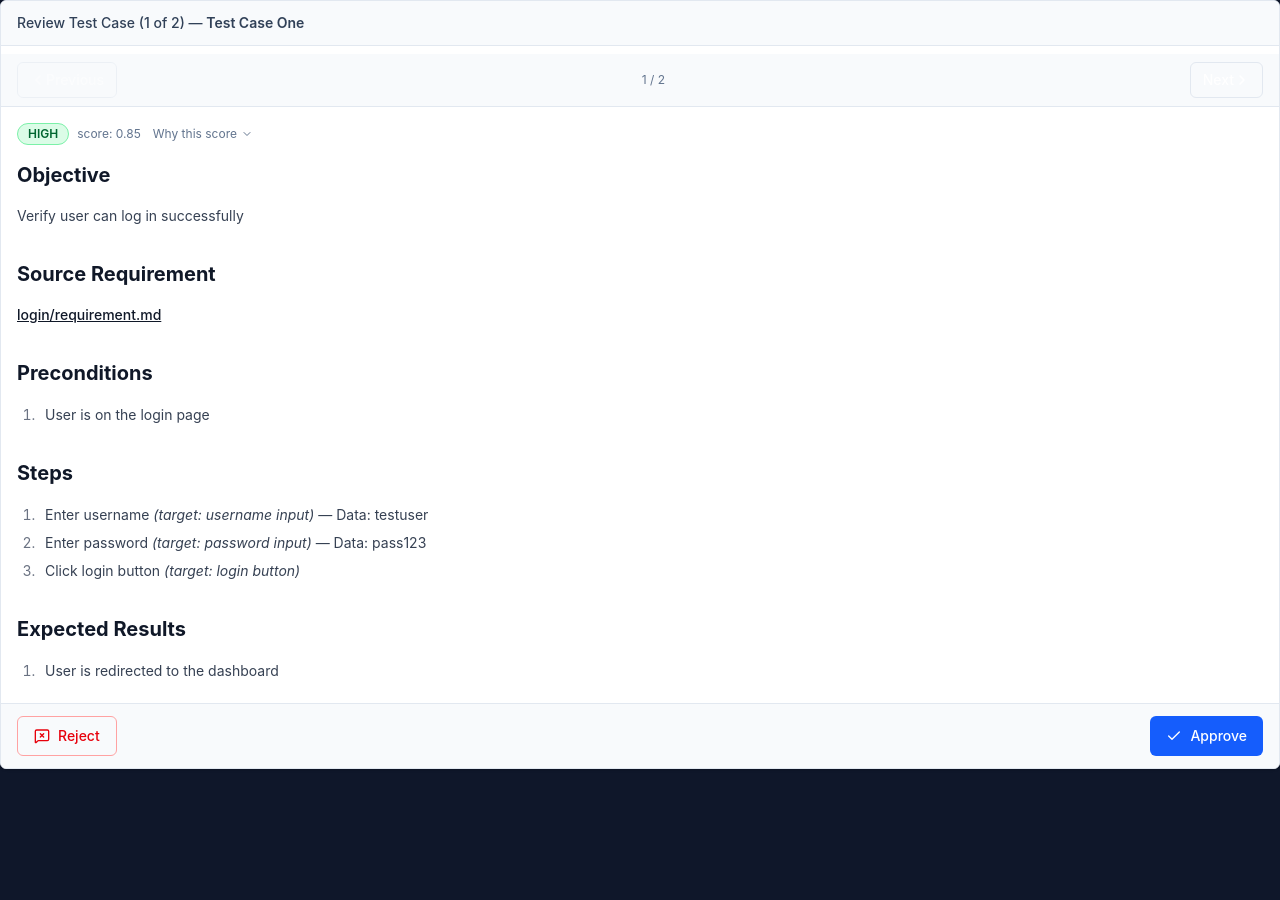
it: MaryReviewPanel › AC1 — Navigation (multiple test cases) › clicking Next advances to the second test case
The width and height of the screenshot is (1280, 900).
Expected: the text "1 / 2" is shown, [642, 72, 665, 88]
Click the button with aria-label "Next item". click: (1226, 80)
box: [1190, 62, 1263, 98]
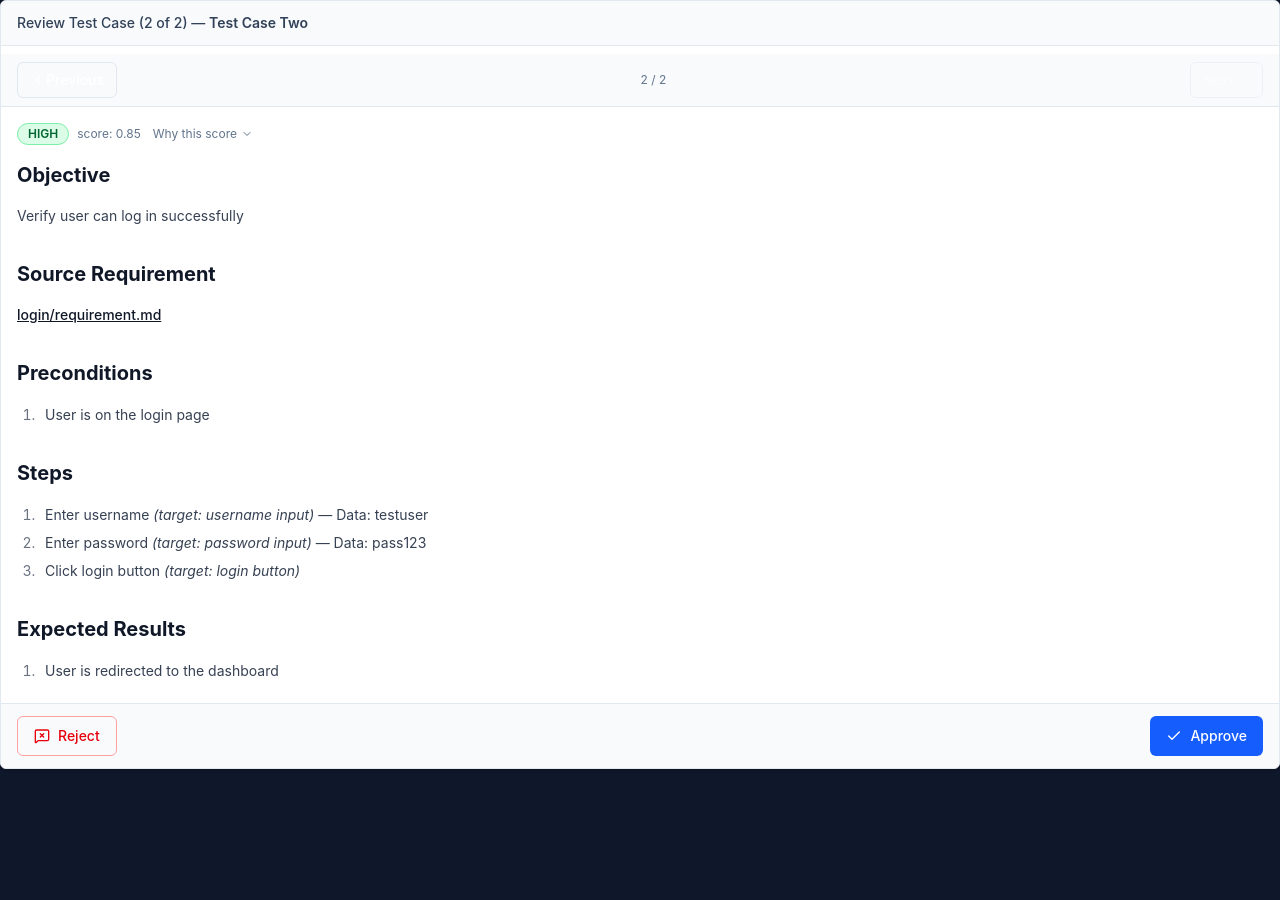
Now the text "2 / 2" is shown, box [640, 72, 666, 88]
Now the text "Test Case Two" is shown, box [209, 14, 308, 31]
